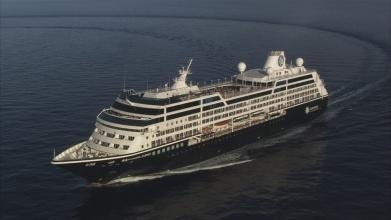youlun: (52, 45, 330, 178)
